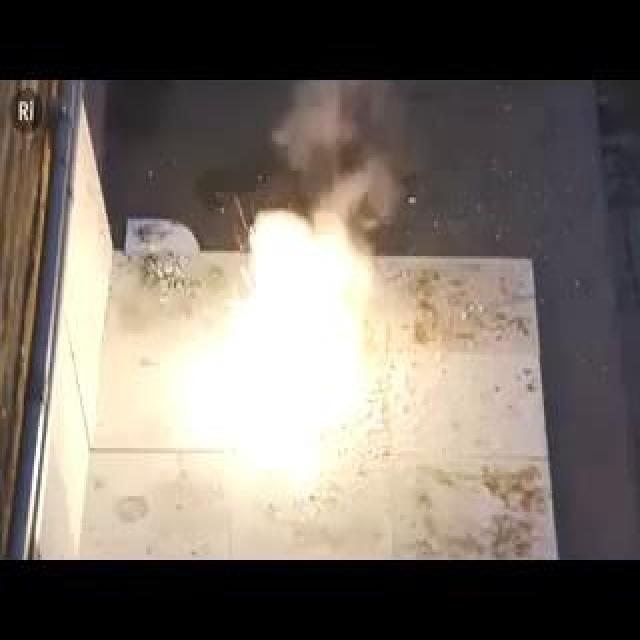Fire: (157, 166, 463, 494)
